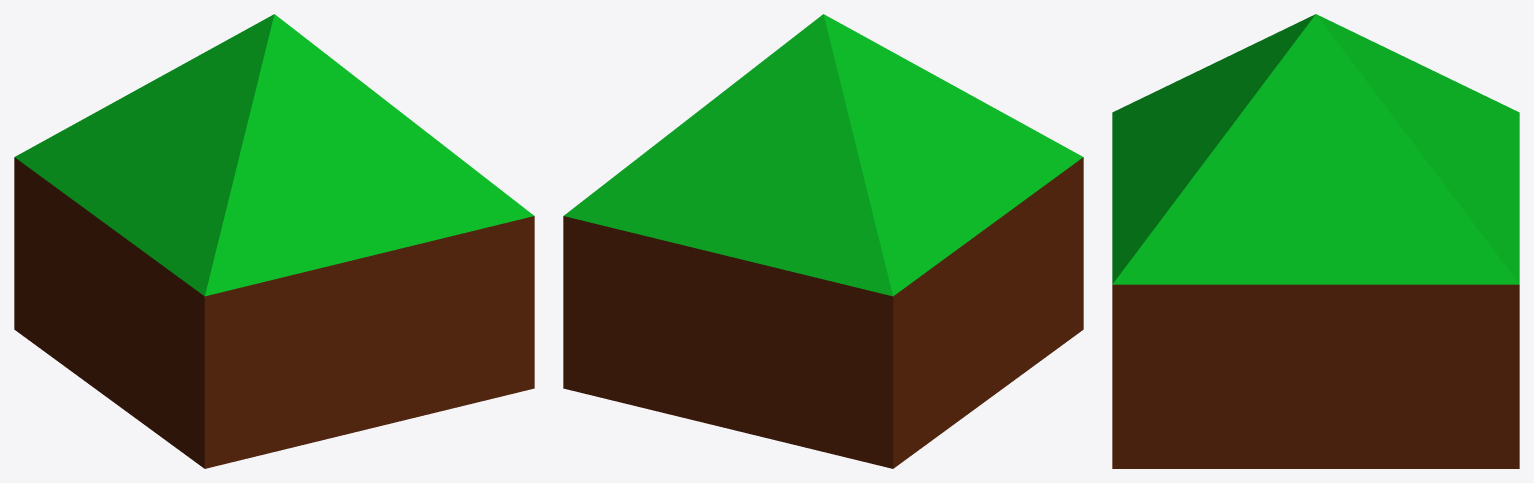
The model's file is corner.obj.
3 views of the same model, side by side, from view 1: azimuth 30°, elevation 25°; view 2: azimuth 150°, elevation 25°; view 3: azimuth 270°, elevation 25° (orthographic). The views are drawn at different scales.
Parts seen in each view (by area): view 1: cuboid, pyramid; view 2: cuboid, pyramid; view 3: pyramid, cuboid.
Part boxes in pixels (bbox=[...]): cuboid: bbox=[14, 157, 534, 468]; pyramid: bbox=[15, 14, 533, 296]; cuboid: bbox=[563, 157, 1083, 468]; pyramid: bbox=[564, 14, 1082, 296]; pyramid: bbox=[1112, 14, 1519, 284]; cuboid: bbox=[1112, 284, 1519, 468].
Bounding box in the file's own units: 1 × 1 × 1.
